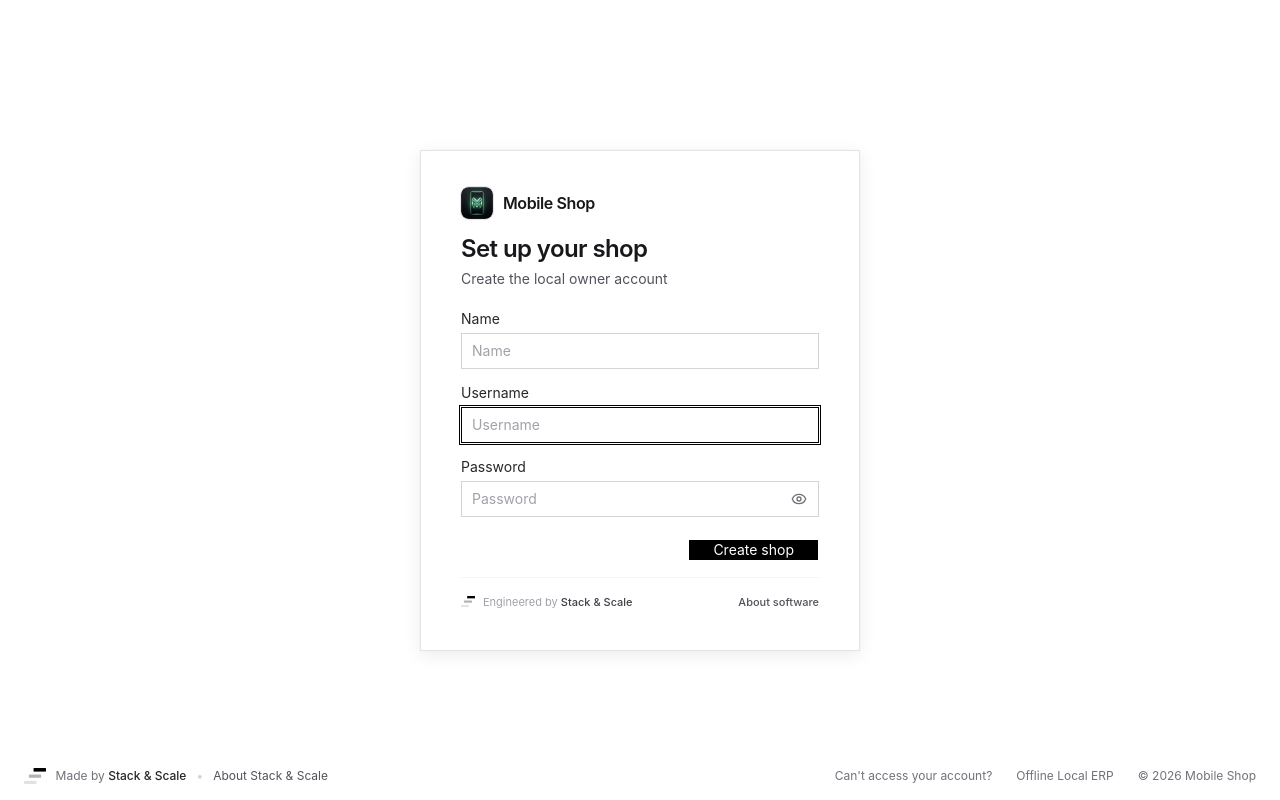
desktop interface › creates the first owner account
The image size is (1280, 800).
Expected: the text "Create the local owner account" is shown, [461,270,668,286]
In the field labelled "Name": point(640, 350) [461,332,819,368], type "Shop Owner"
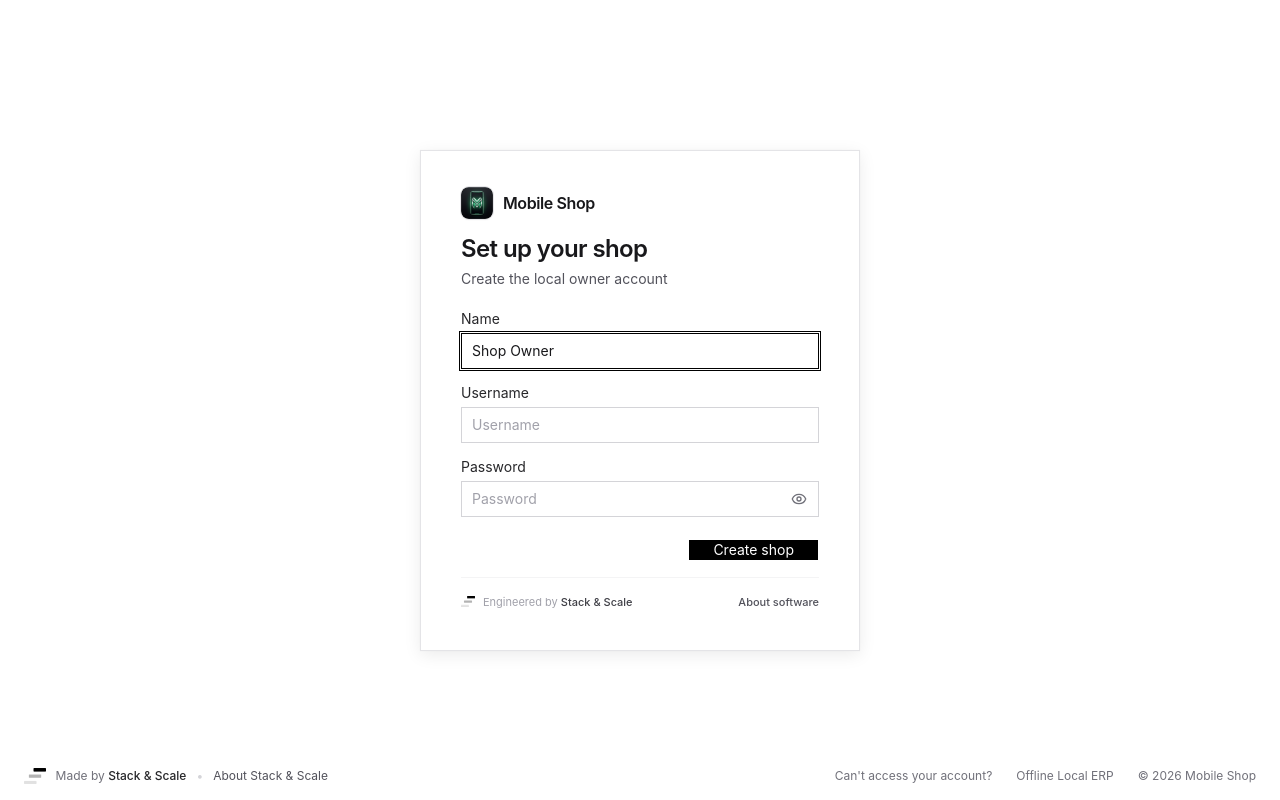
In the field labelled "Username": point(640, 424) [461,406,819,442], type "shop-owner"
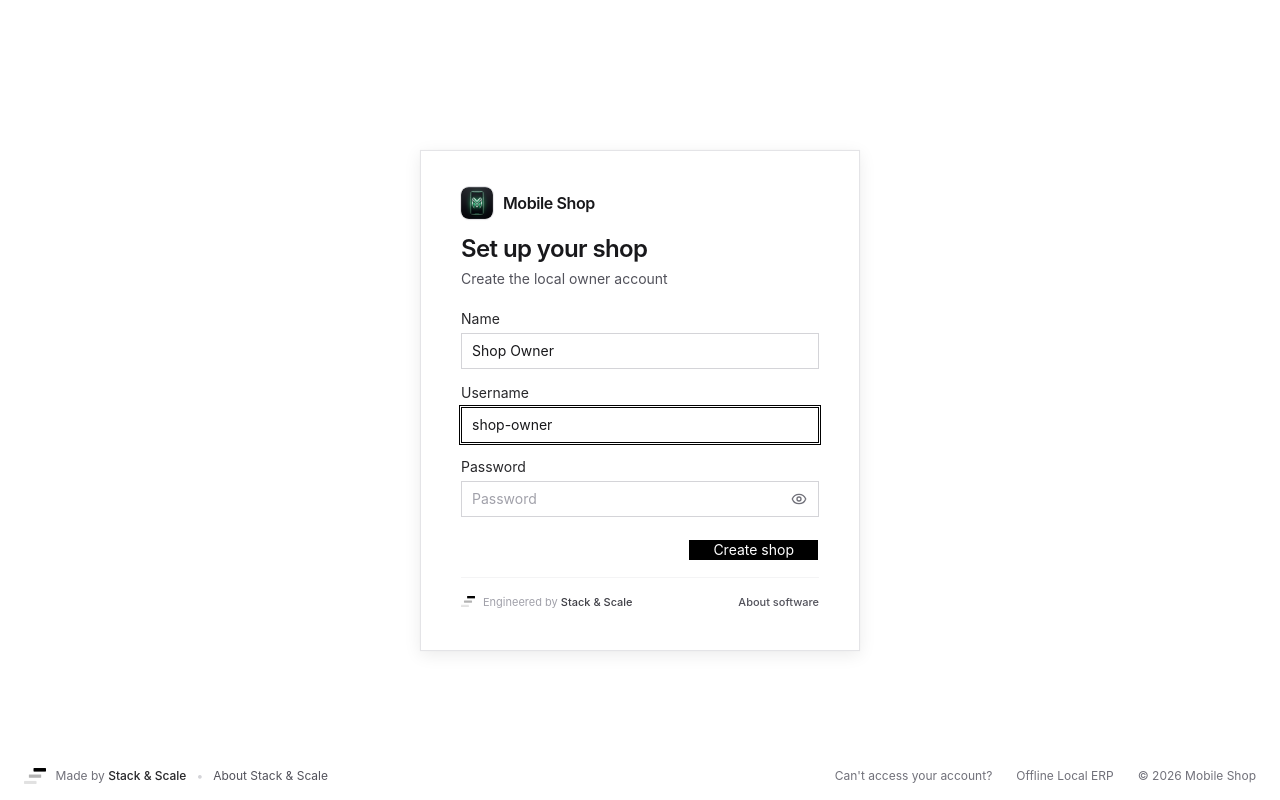
In the password field labelled "Password": point(640, 498) [461,480,819,516], type "StrongPass123"
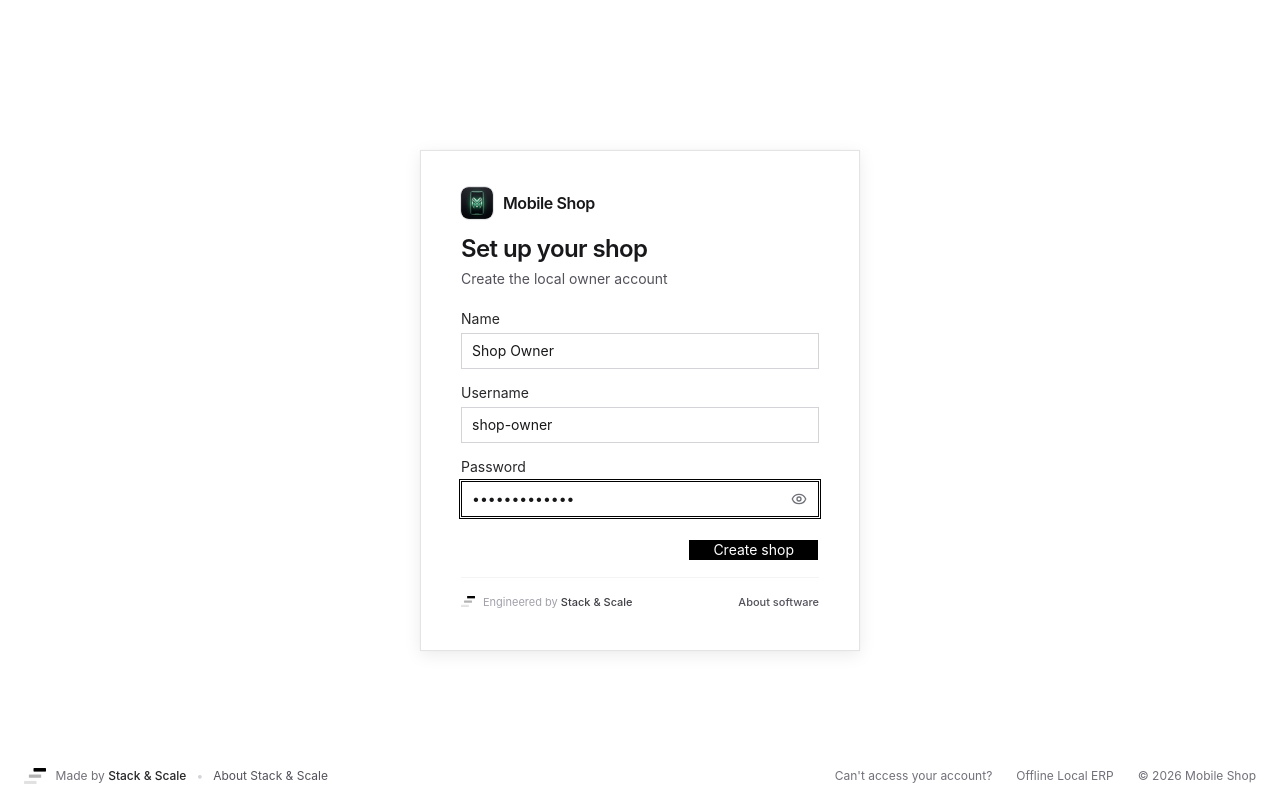
Click the button "Create shop": point(754, 550) [688,538,819,560]
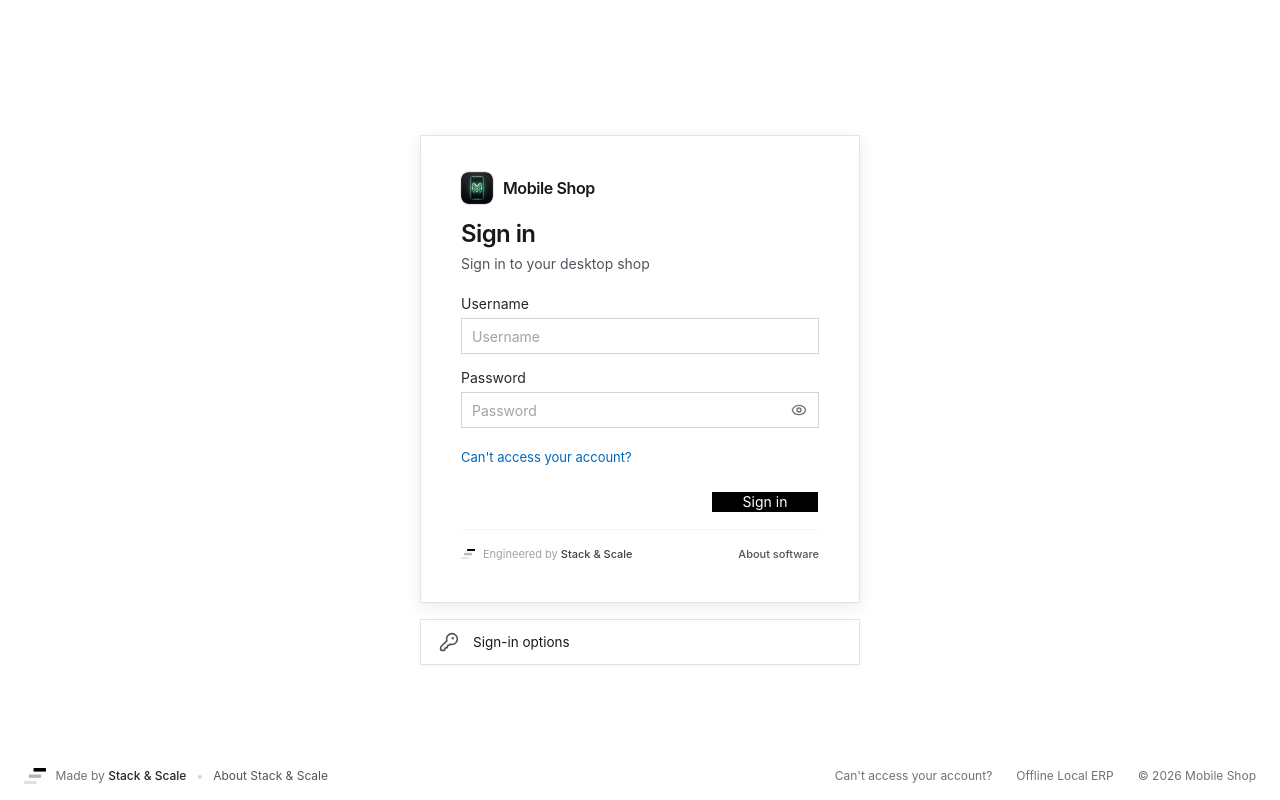
Result: the text "Sign in to your desktop shop" is shown at [461,255,650,272]
